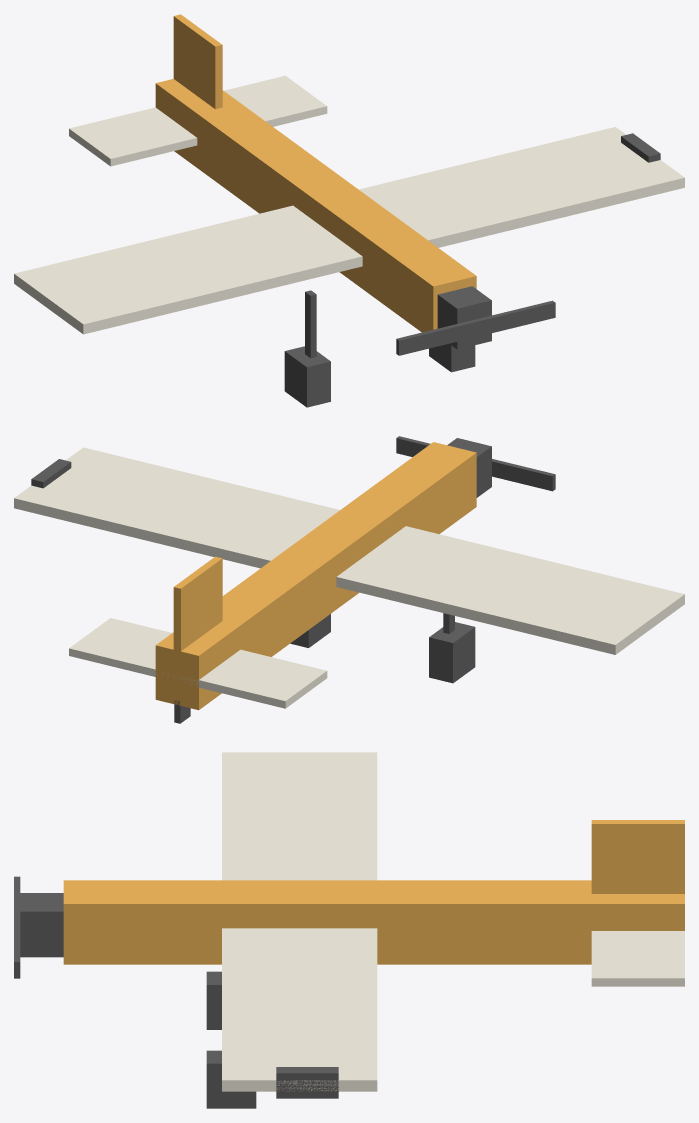
The picture shows the model from 3 angles, top to bottom: view 1: azimuth 30°, elevation 25°; view 2: azimuth 150°, elevation 25°; view 3: azimuth 270°, elevation 25°; orthographic projection. The views are drawn at different scales.
Parts seen in each view (by area): view 1: trainer; view 2: trainer; view 3: trainer.
Part boxes in pixels (<box>): trainer: <box>14,14,684,407</box>; trainer: <box>14,436,684,723</box>; trainer: <box>14,752,684,1108</box>.
Size of the model in its own units: 1 by 0.342 by 0.864.
